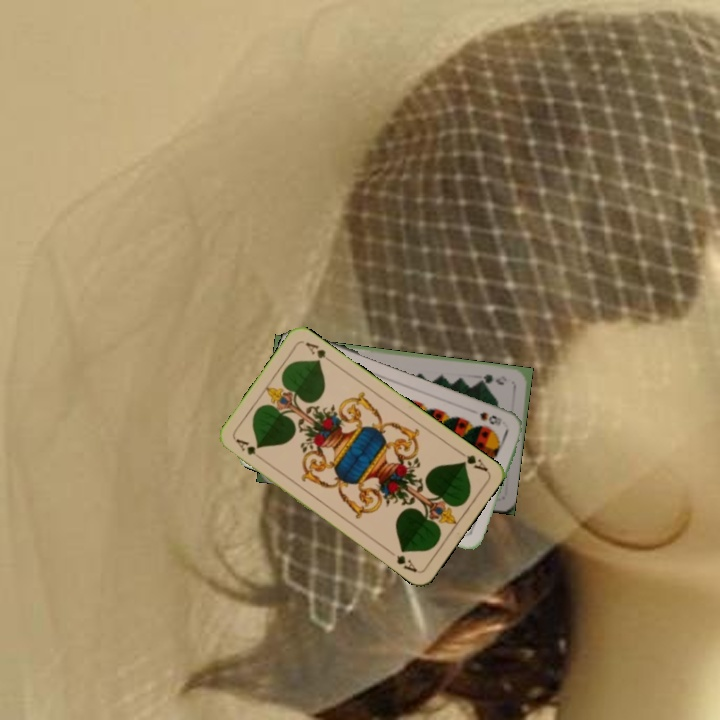G9: (474, 370, 509, 387)
GA: (231, 435, 266, 464), (454, 446, 490, 474)
S8: (476, 408, 504, 428)
